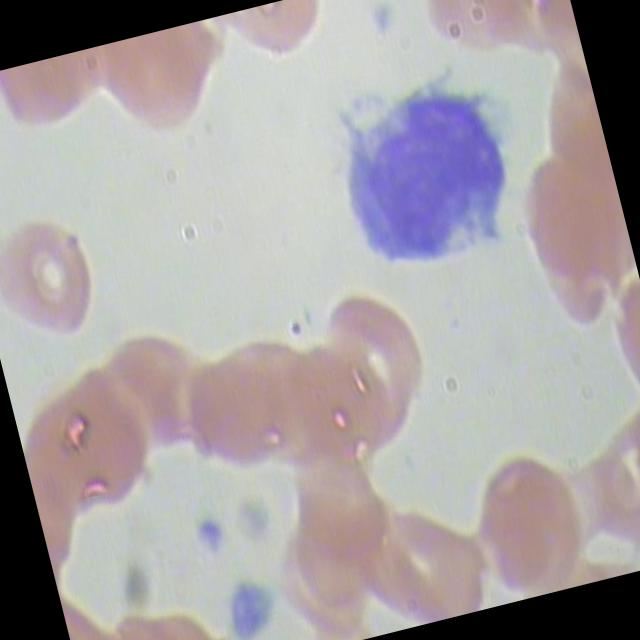Platelets: (220, 574, 287, 640), (188, 512, 235, 567), (363, 0, 410, 45)
RBC: (511, 151, 640, 343), (172, 336, 322, 501), (308, 274, 458, 438), (25, 363, 174, 528), (268, 454, 417, 619), (216, 318, 364, 484), (282, 324, 431, 488), (84, 316, 233, 480), (124, 317, 272, 482), (349, 471, 498, 634), (450, 446, 599, 608), (0, 197, 124, 362), (90, 20, 234, 155)
WBC: (316, 56, 538, 290)
